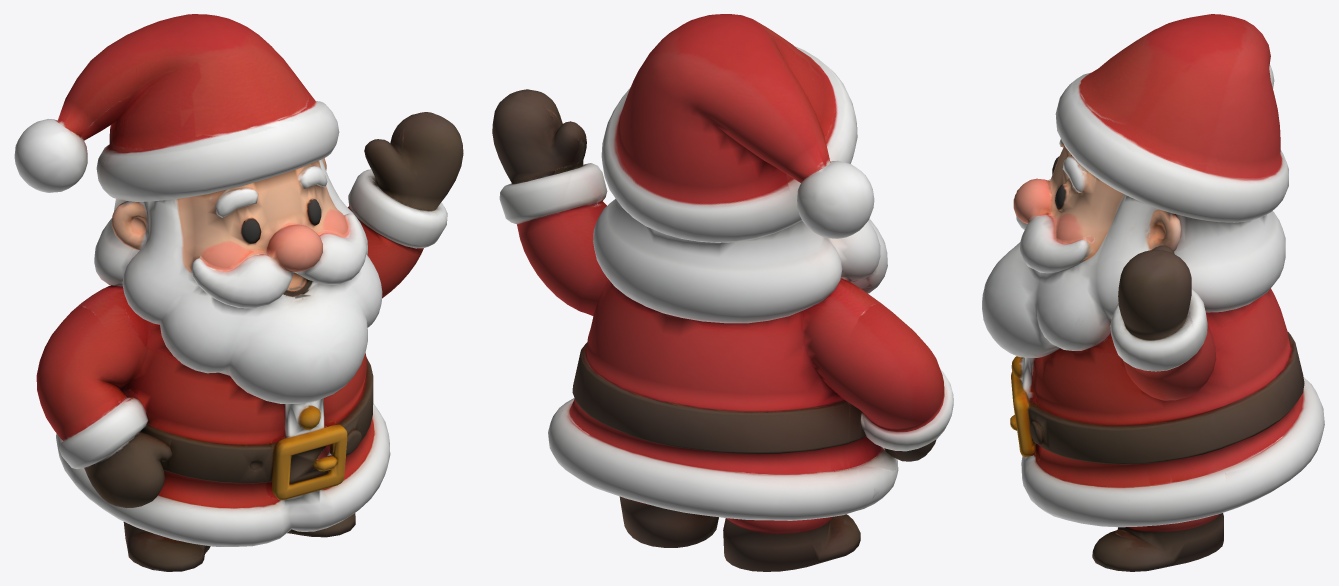
Rendered from santa.glb.
3 views of the same model, side by side, from view 1: azimuth 30°, elevation 25°; view 2: azimuth 150°, elevation 25°; view 3: azimuth 270°, elevation 25° (orthographic). The views are drawn at different scales.
Bounding box in the file's own units: 1.75 × 2 × 1.27.
1 material, 1 textured.
